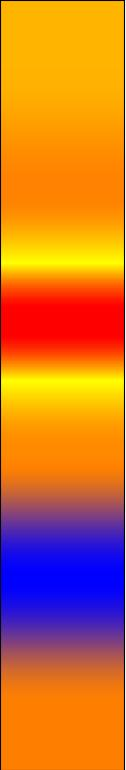Thermal Runaway: (5, 9, 120, 469)
critical: (9, 641, 118, 766), (9, 474, 123, 511)
safe: (13, 525, 111, 630)
